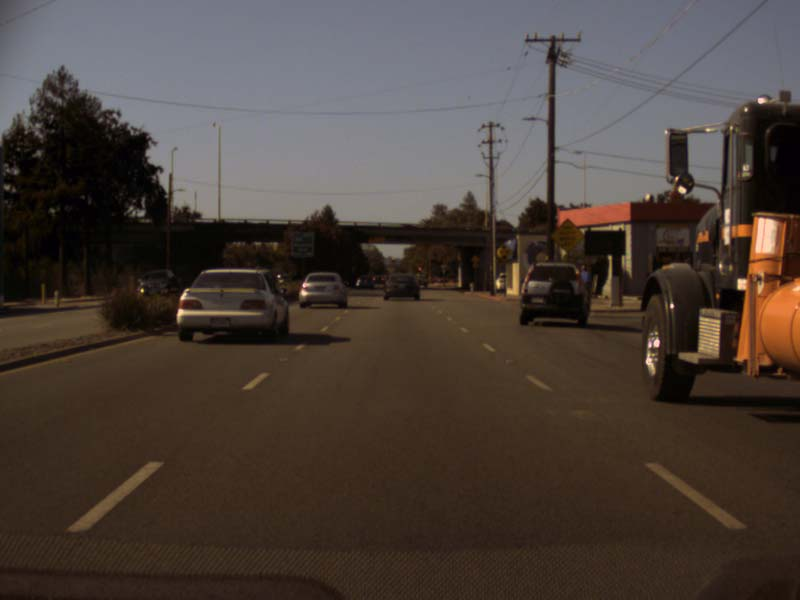Red: (416, 266, 421, 273), (390, 256, 394, 263)
